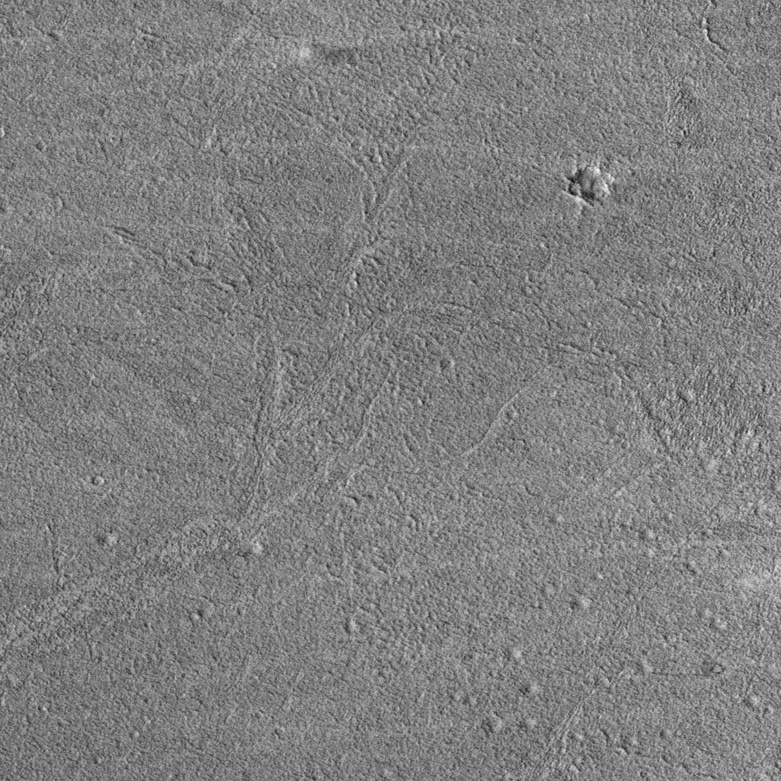dust_devil: (298, 43, 364, 67)
